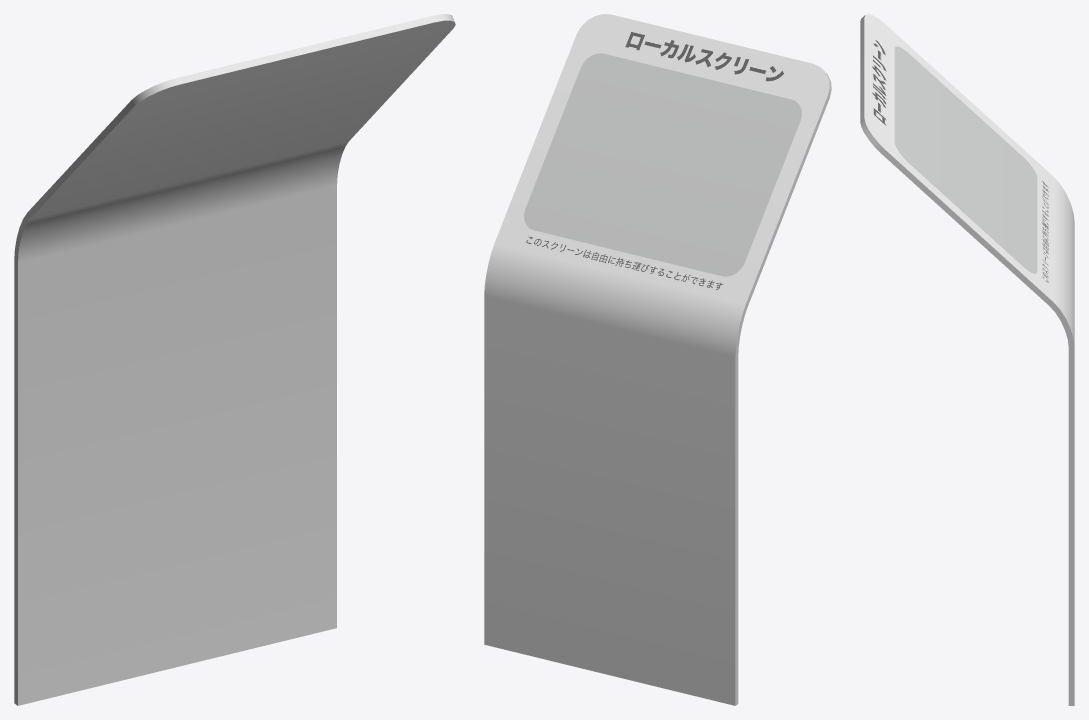
Rendered from local_screen.fbx.
3 renders of one model, left to right at view 1: azimuth 30°, elevation 25°; view 2: azimuth 150°, elevation 25°; view 3: azimuth 270°, elevation 25°, orthographic. The views are drawn at different scales.
Visible parts, largest first — view 1: Flont; view 2: Back, Flont; view 3: Back, Flont.
Boxes of the visible parts, left/top/right/bottom form: Flont: left=14, top=14, right=455, bottom=705; Back: left=484, top=14, right=829, bottom=705; Flont: left=735, top=73, right=831, bottom=705; Back: left=864, top=14, right=1074, bottom=345; Flont: left=860, top=15, right=1074, bottom=705.
Size of the model in its own units: 40 by 85.36 by 28.85.
